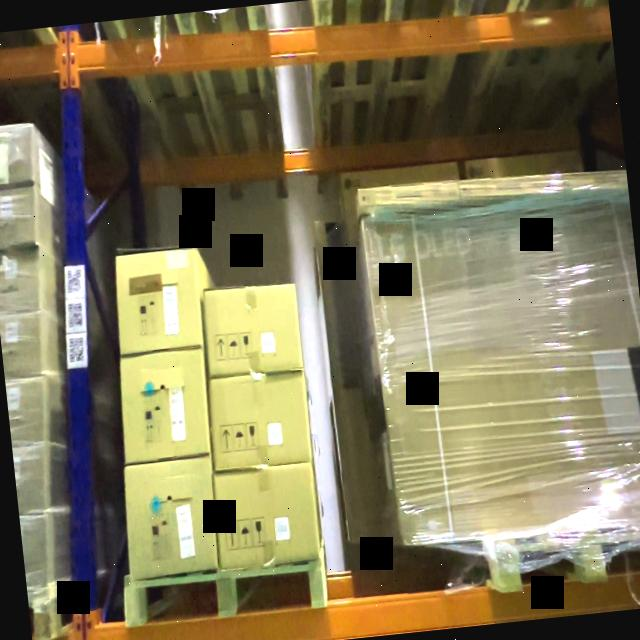box: (210, 369, 310, 471), (211, 467, 318, 562), (126, 458, 216, 570), (122, 355, 208, 460), (205, 283, 300, 376), (120, 253, 200, 352)
